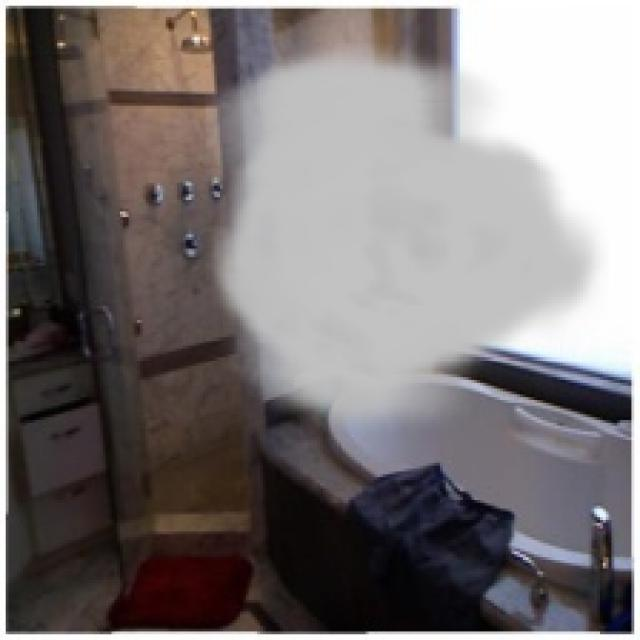smoke: (206, 43, 608, 440)
